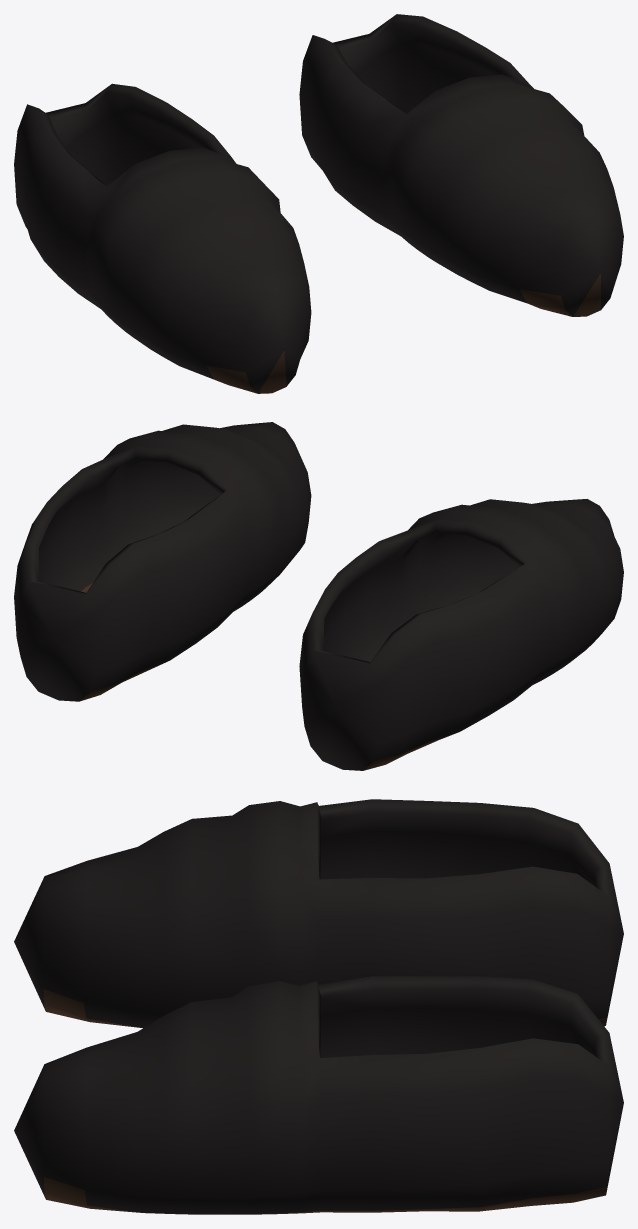
File: PantopelBlack.fbx
3 views of the same model, one above another, from view 1: azimuth 30°, elevation 25°; view 2: azimuth 150°, elevation 25°; view 3: azimuth 270°, elevation 25° (orthographic). The views are drawn at different scales.
Parts seen in each view (by area): view 1: Loafers; view 2: Loafers; view 3: Loafers.
Boxes of the visible parts, <box> form: Loafers: <box>14,14,623,393</box>; Loafers: <box>14,422,623,770</box>; Loafers: <box>14,799,623,1214</box>.
Size of the model in its own units: 39.13 by 12.87 by 35.41.
